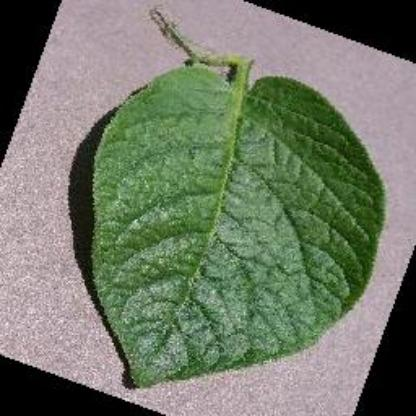Healthy-plant: (73, 33, 397, 403)
